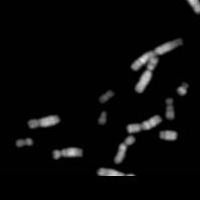chromosome: (132, 37, 184, 70), (134, 56, 158, 91), (126, 114, 161, 133), (112, 135, 135, 163), (27, 115, 60, 131), (52, 145, 83, 160), (97, 166, 136, 176), (177, 0, 200, 15), (98, 88, 115, 103), (158, 129, 177, 141), (165, 97, 175, 118), (97, 108, 108, 125), (176, 80, 188, 95), (15, 138, 32, 147)
